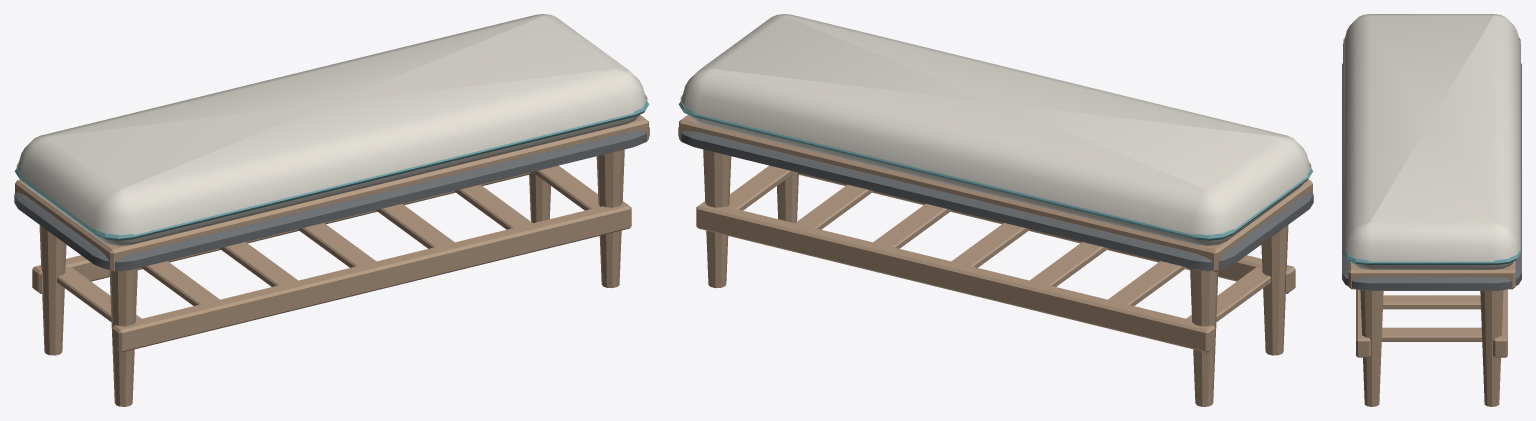
Rendered from hotel-and-resort-operations-luggage-bench-506e60f7__25743.glb.
The picture shows the model from 3 angles, left to right: view 1: azimuth 30°, elevation 25°; view 2: azimuth 150°, elevation 25°; view 3: azimuth 270°, elevation 25°; orthographic projection. The views are drawn at different scales.
Visible parts, largest first — view 1: luggage-bench; view 2: luggage-bench; view 3: luggage-bench.
Part boxes in pixels (<box>): luggage-bench: <box>14,14,649,406</box>; luggage-bench: <box>678,14,1313,406</box>; luggage-bench: <box>1342,14,1521,406</box>.
Size of the model in its own units: 1.27 by 0.473 by 0.42.
